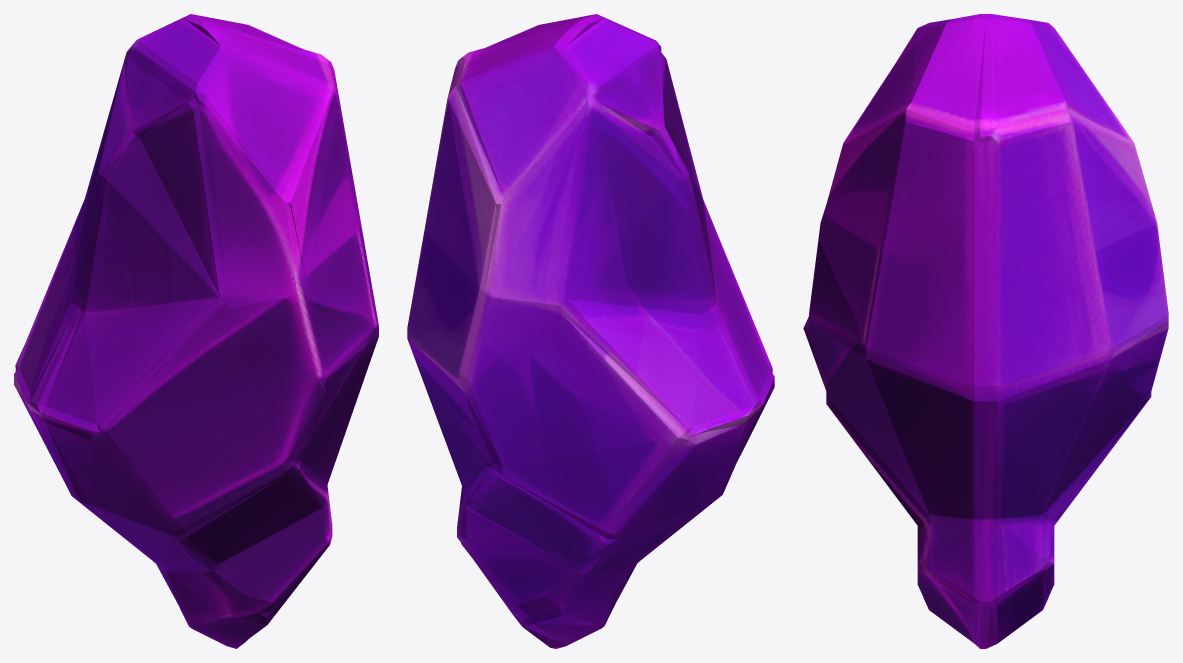
Rendered from Staff_Gem_Lvl3.glb.
3 renders of one model, left to right at view 1: azimuth 30°, elevation 25°; view 2: azimuth 150°, elevation 25°; view 3: azimuth 270°, elevation 25°, orthographic.
Parts seen in each view (by area): view 1: Staff_Gem_Lvl3; view 2: Staff_Gem_Lvl3; view 3: Staff_Gem_Lvl3.
Part boxes in pixels (x1,y1,x2,y2): Staff_Gem_Lvl3: (14, 14, 378, 648); Staff_Gem_Lvl3: (407, 14, 774, 648); Staff_Gem_Lvl3: (803, 14, 1168, 648).
Size of the model in its own units: 0.2583 by 0.4697 by 0.2505.
Materials: 1 (1 with a texture image).
